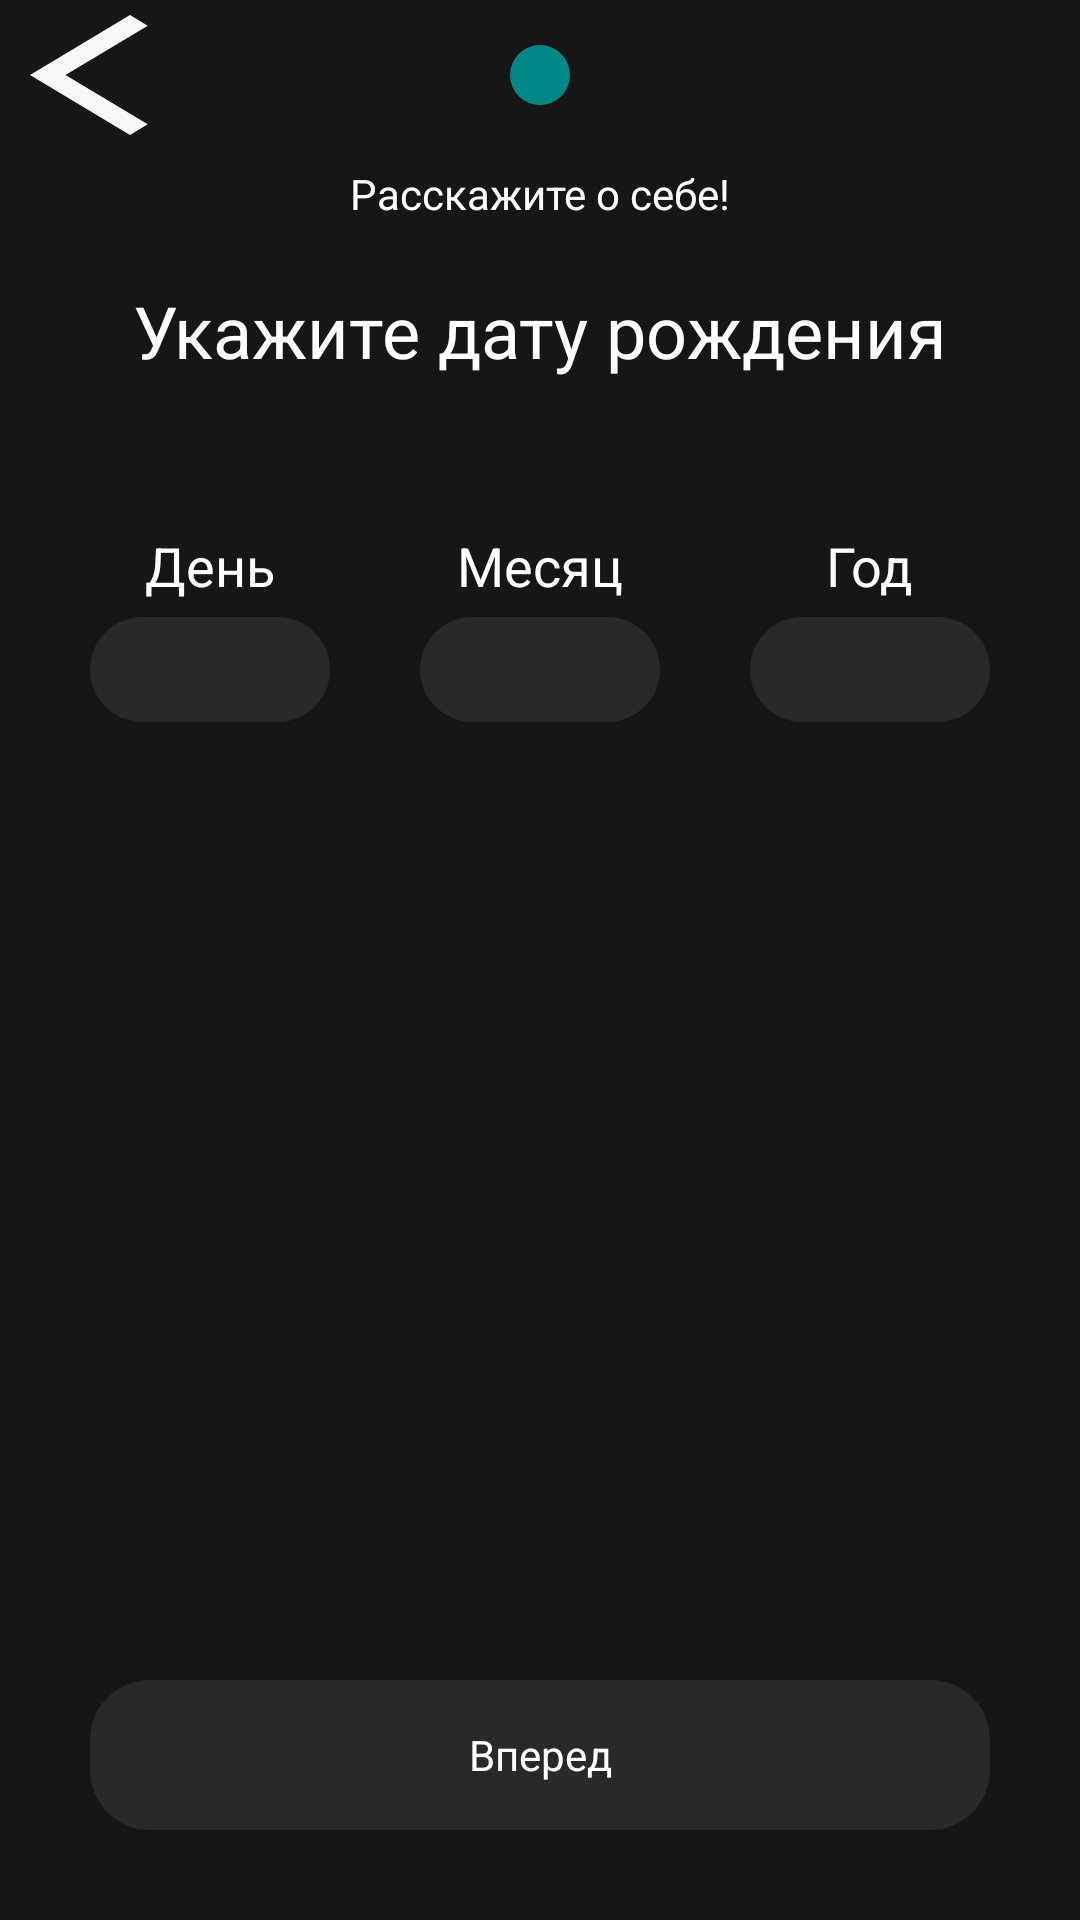

Screen size 1080 × 1920. Icon name, then its center in pixels as (x=x, y=y):
back: (x=89, y=75)
